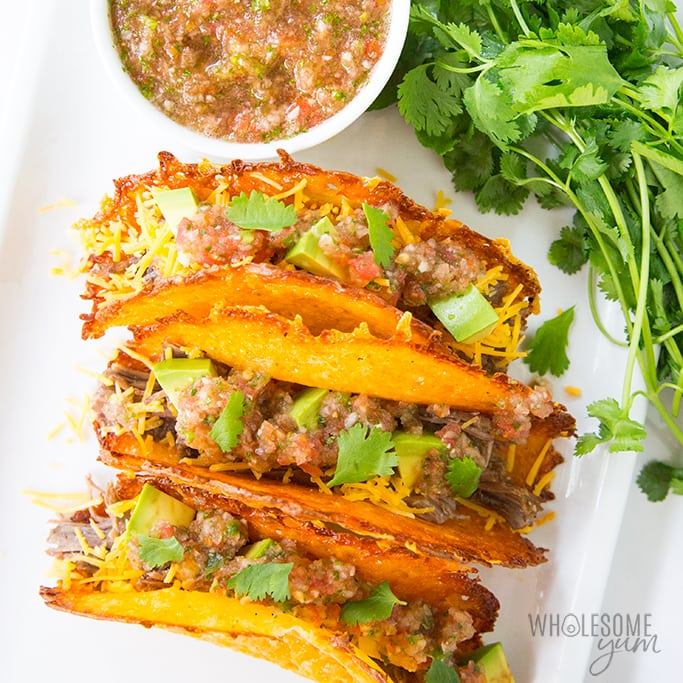cheese: (223, 293, 364, 371), (253, 487, 385, 557), (89, 217, 187, 291), (530, 433, 575, 501), (259, 172, 297, 207)
